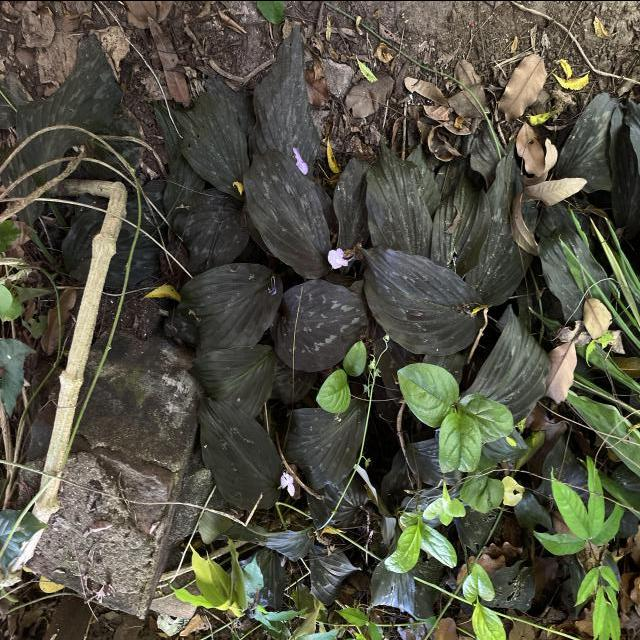Kaempferia galanga linn: (357, 238, 485, 358), (240, 146, 334, 282), (188, 388, 288, 514), (178, 258, 286, 356), (269, 276, 372, 372)
